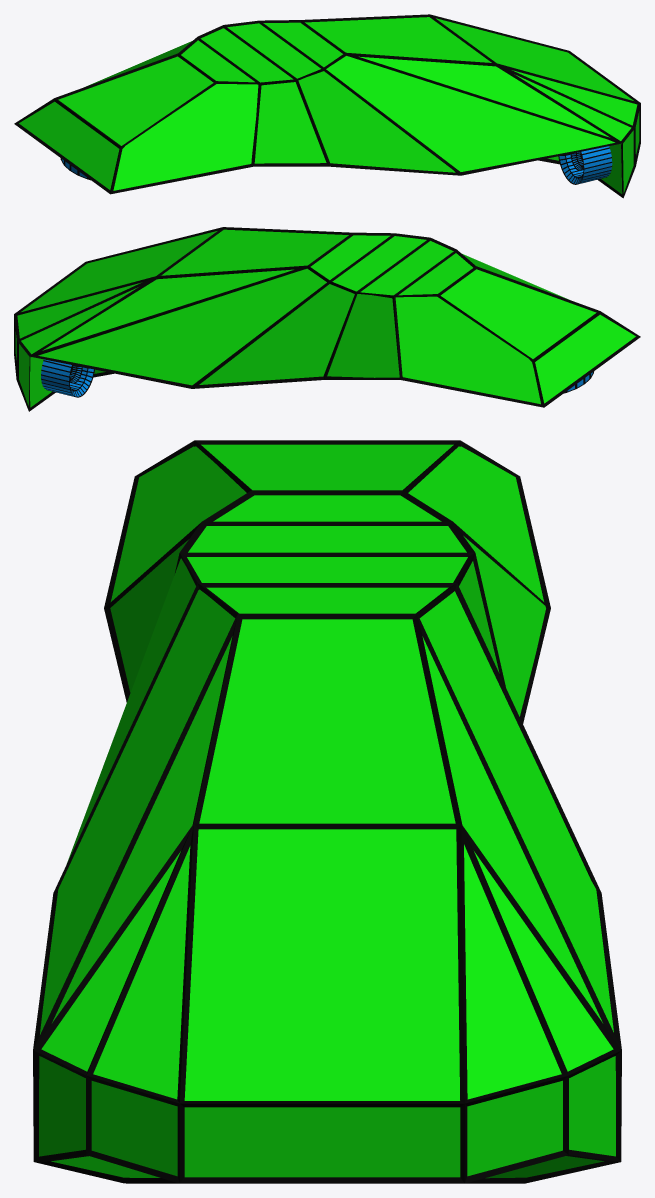
File: TankBot2.fbx
3 renders of one model, top to bottom at view 1: azimuth 30°, elevation 25°; view 2: azimuth 150°, elevation 25°; view 3: azimuth 270°, elevation 25°, orthographic. The views are drawn at different scales.
Parts seen in each view (by area): view 1: Bot2; view 2: Bot2; view 3: Bot2.
Part boxes in pixels (x1,y1,x2,y2): Bot2: [14, 14, 640, 198]; Bot2: [14, 227, 640, 411]; Bot2: [33, 440, 621, 1183].
Size of the model in its own units: 825 by 239 by 388.
